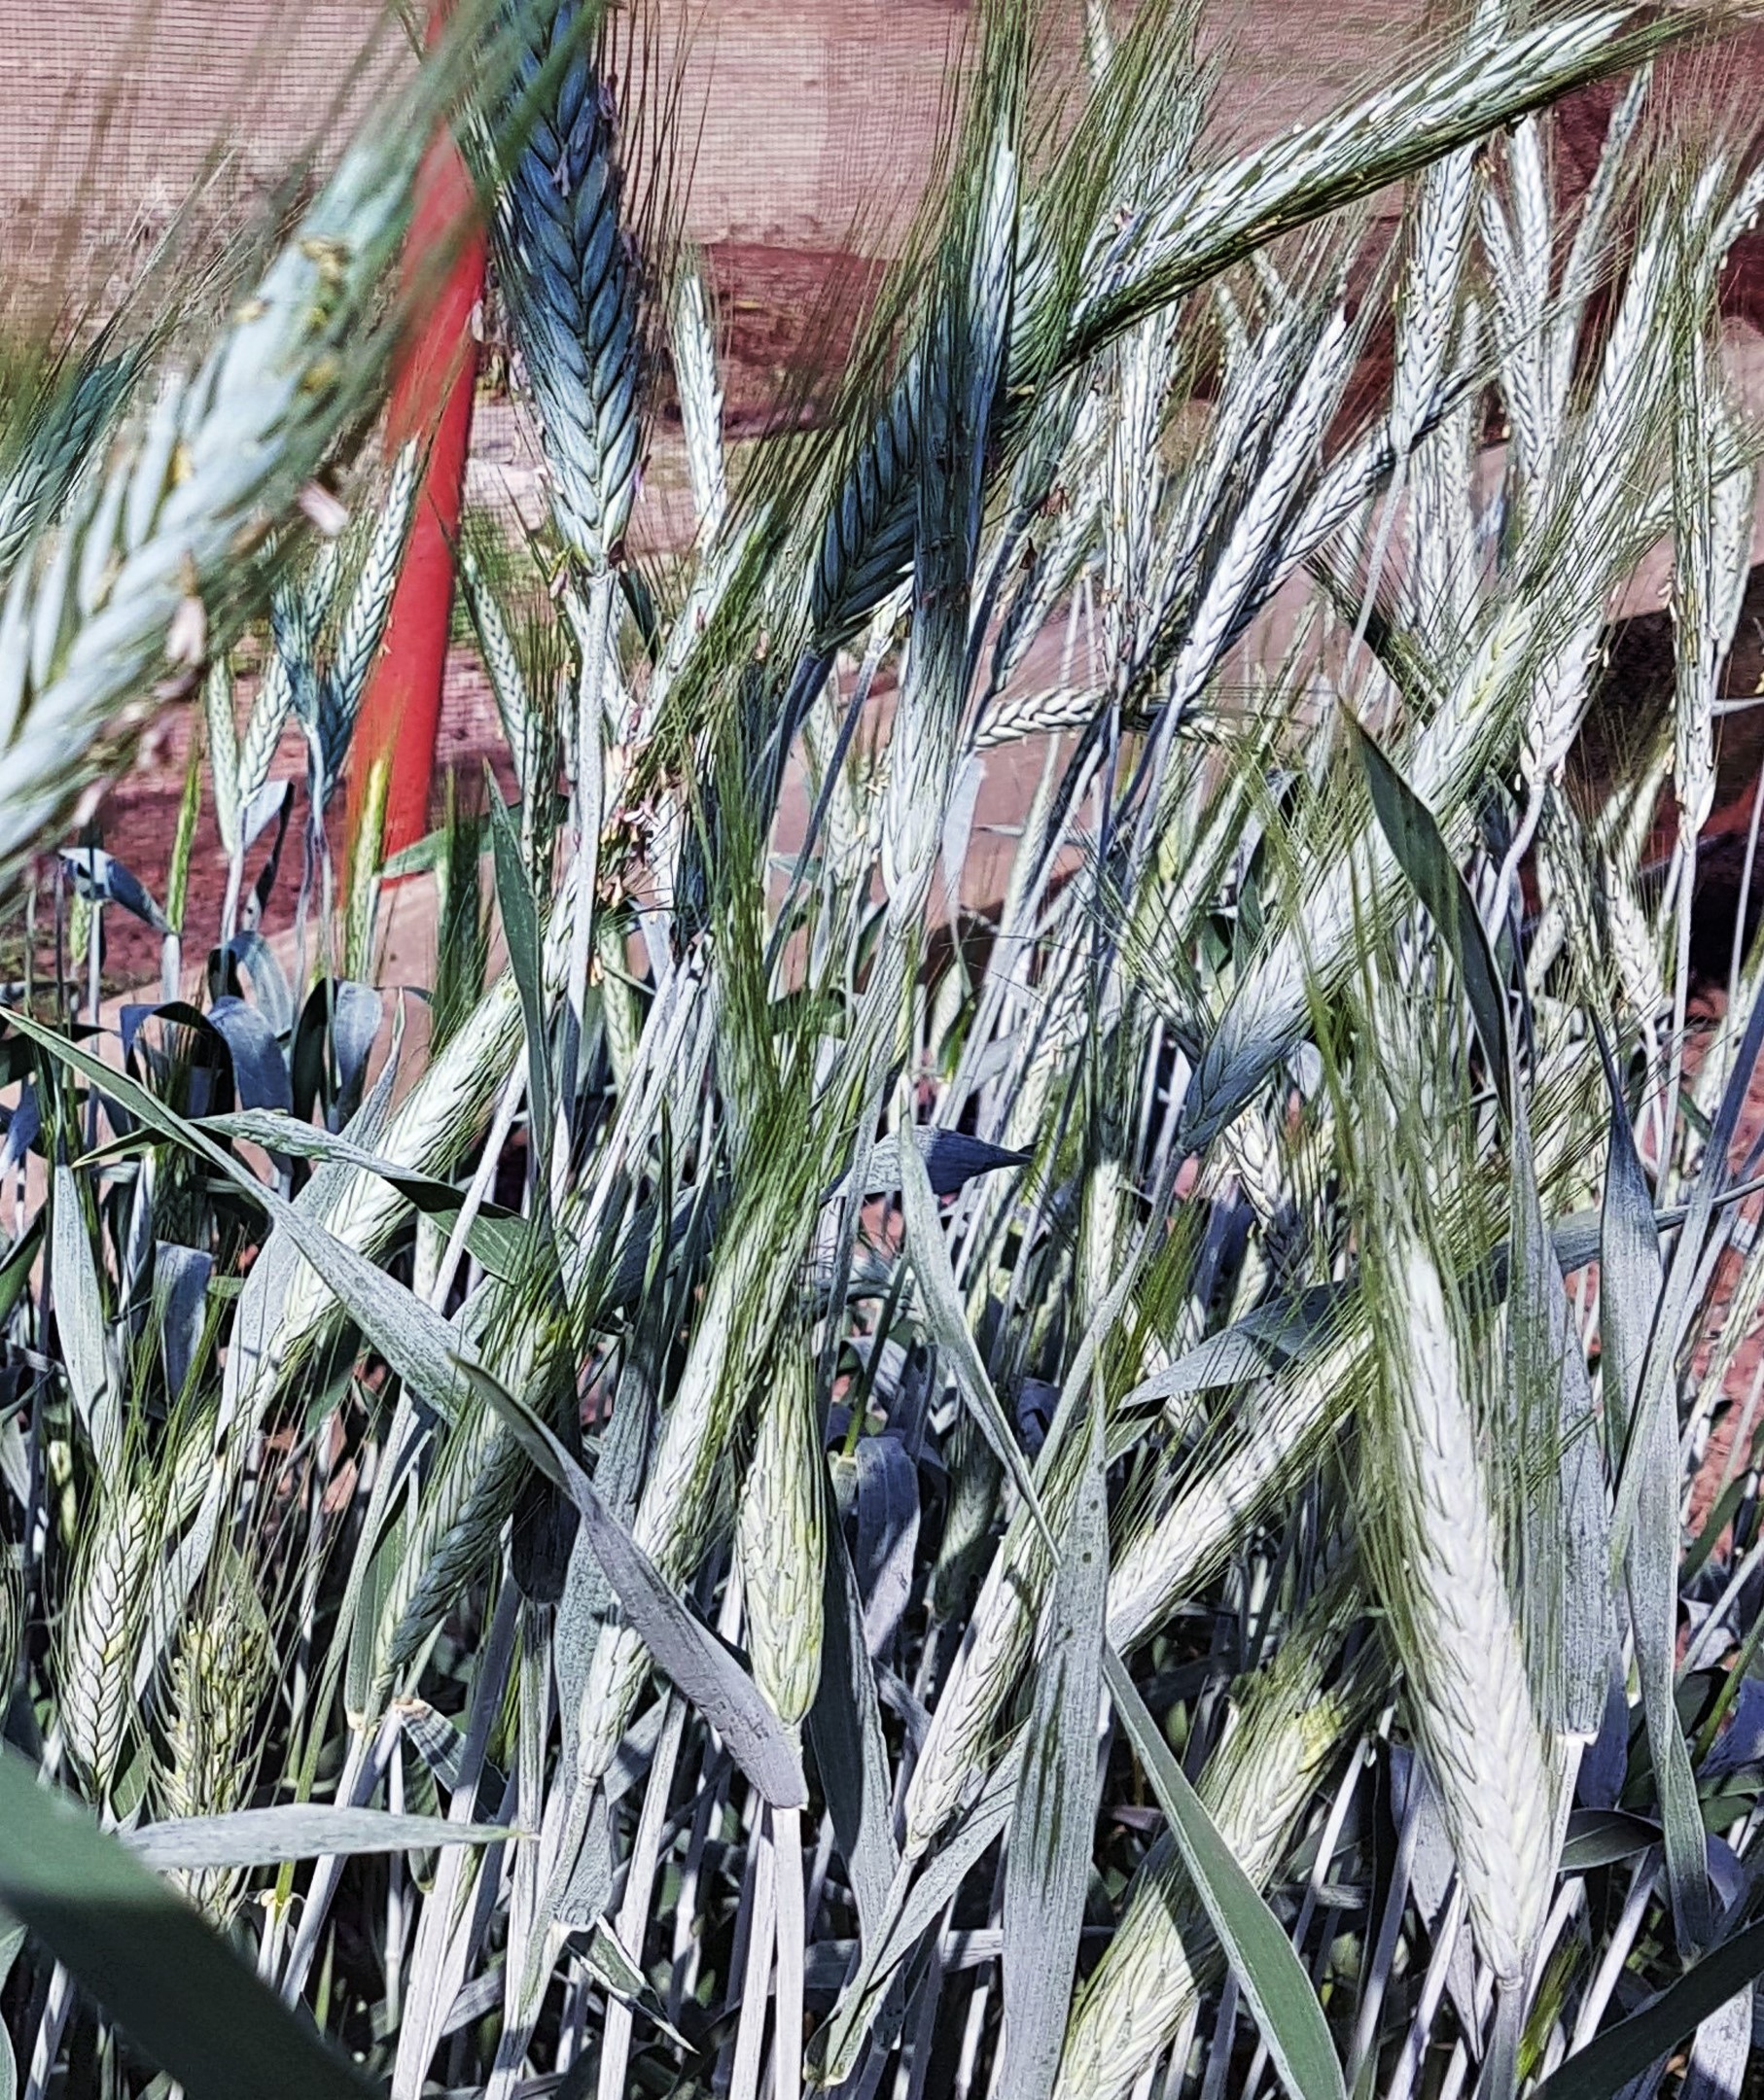Healthy Wheat: (476, 2, 656, 593), (40, 1431, 199, 1788)
